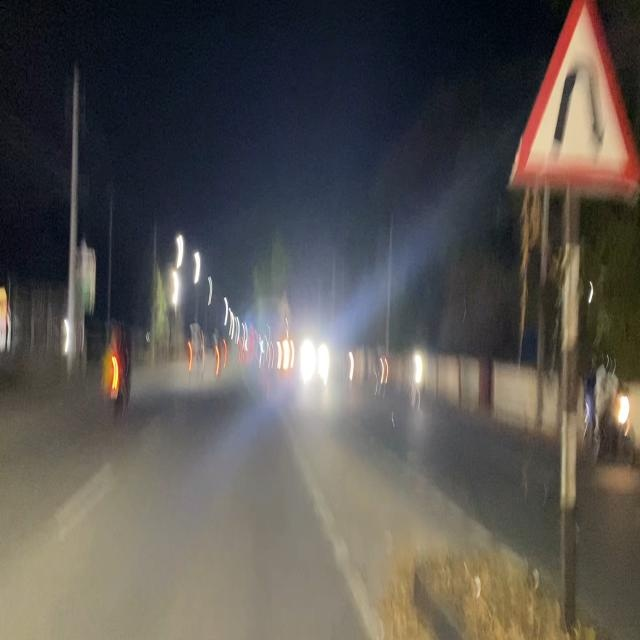bien_nguy_hiem: (507, 0, 640, 203)
